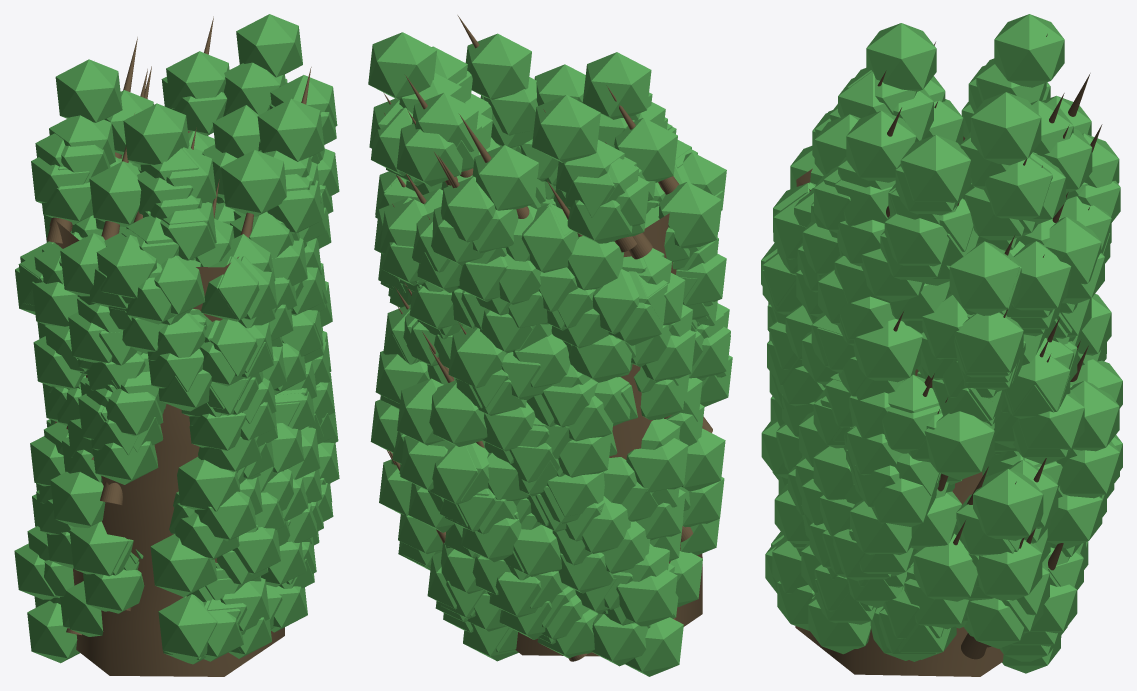
File: tree_var_4994.glb
3 renders of one model, left to right at view 1: azimuth 30°, elevation 25°; view 2: azimuth 150°, elevation 25°; view 3: azimuth 270°, elevation 25°, orthographic. The views are drawn at different scales.
Visible parts, largest first — view 1: tree_var_4994; view 2: tree_var_4994; view 3: tree_var_4994.
Boxes of the visible parts, x1=… form: tree_var_4994: x1=14, y1=14, x2=339, y2=676; tree_var_4994: x1=368, y1=15, x2=732, y2=676; tree_var_4994: x1=761, y1=14, x2=1122, y2=676.
Bounding box in the file's own units: 2.96 × 5.6 × 2.88.
